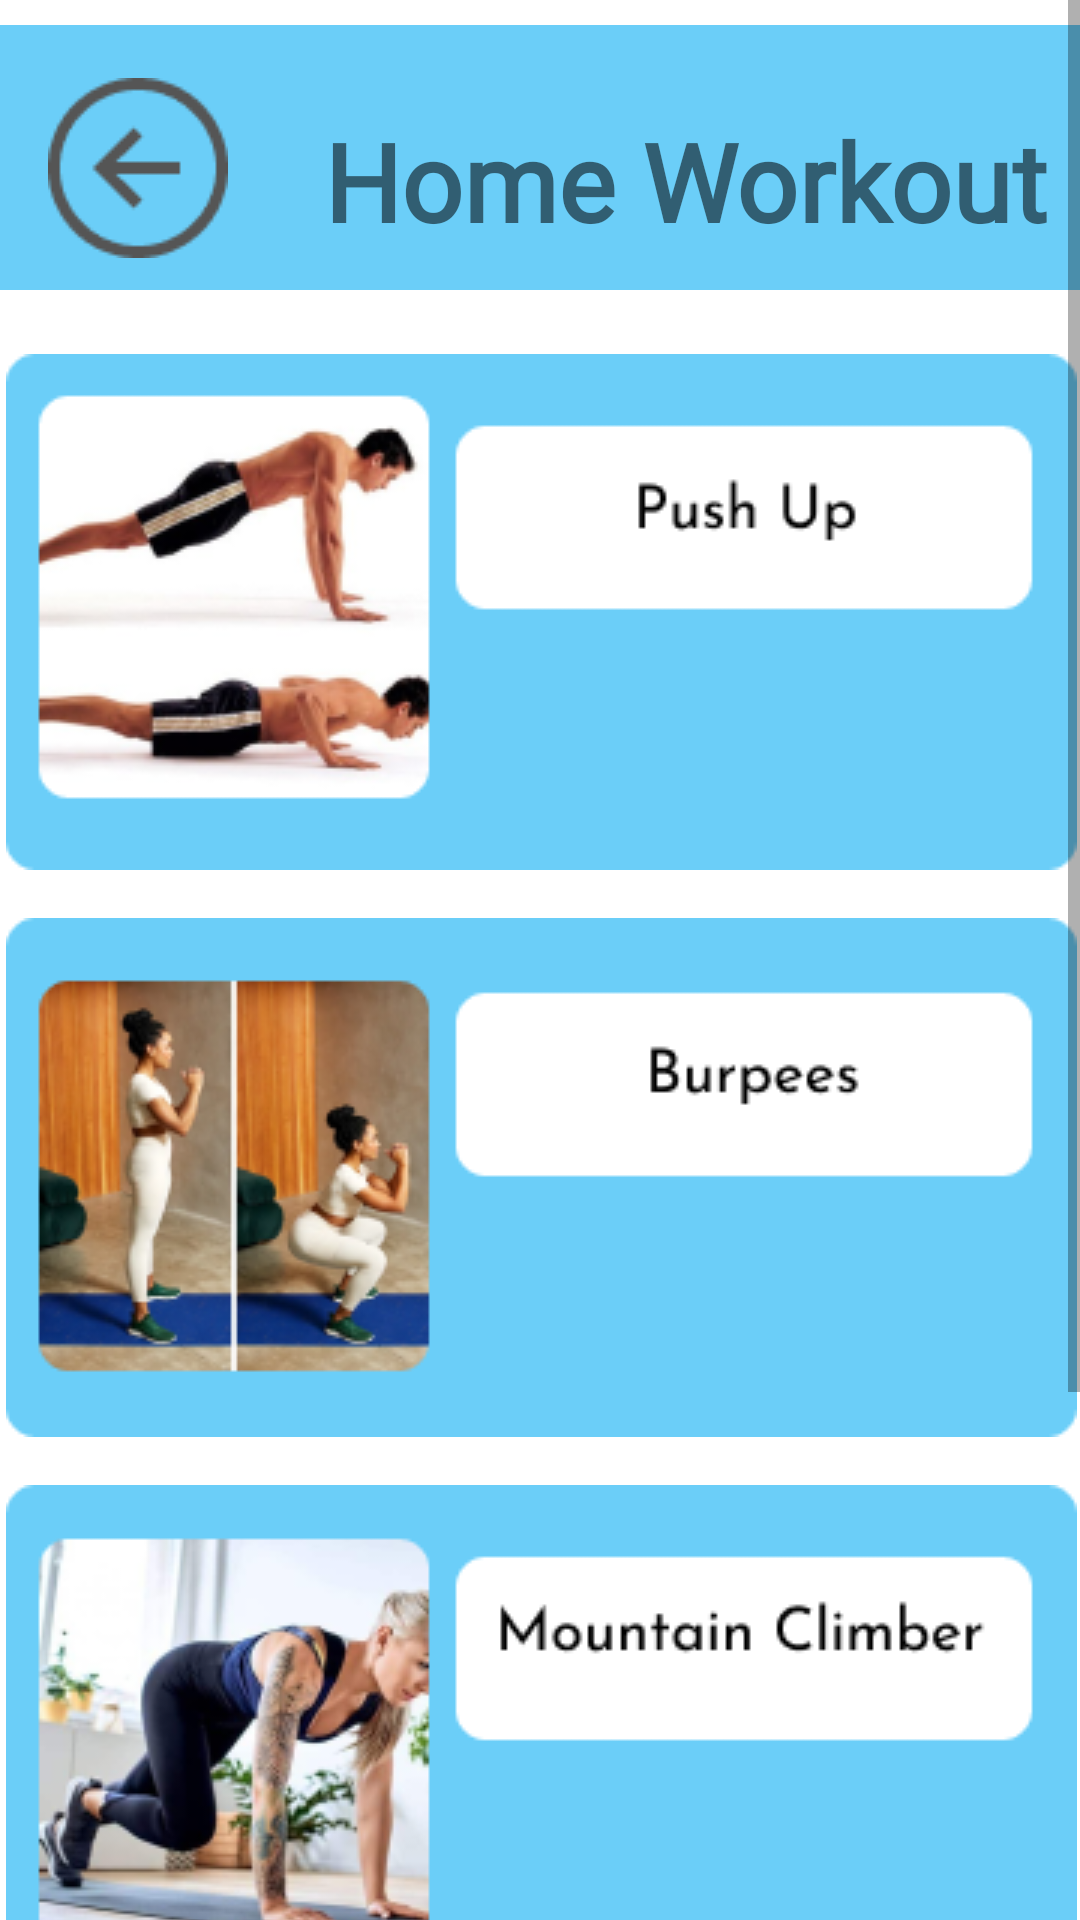

Where icons sit on this 1080x1920 app screen, as rect(x1, y1, x2, y2):
backbtn: rect(48, 78, 228, 258)
